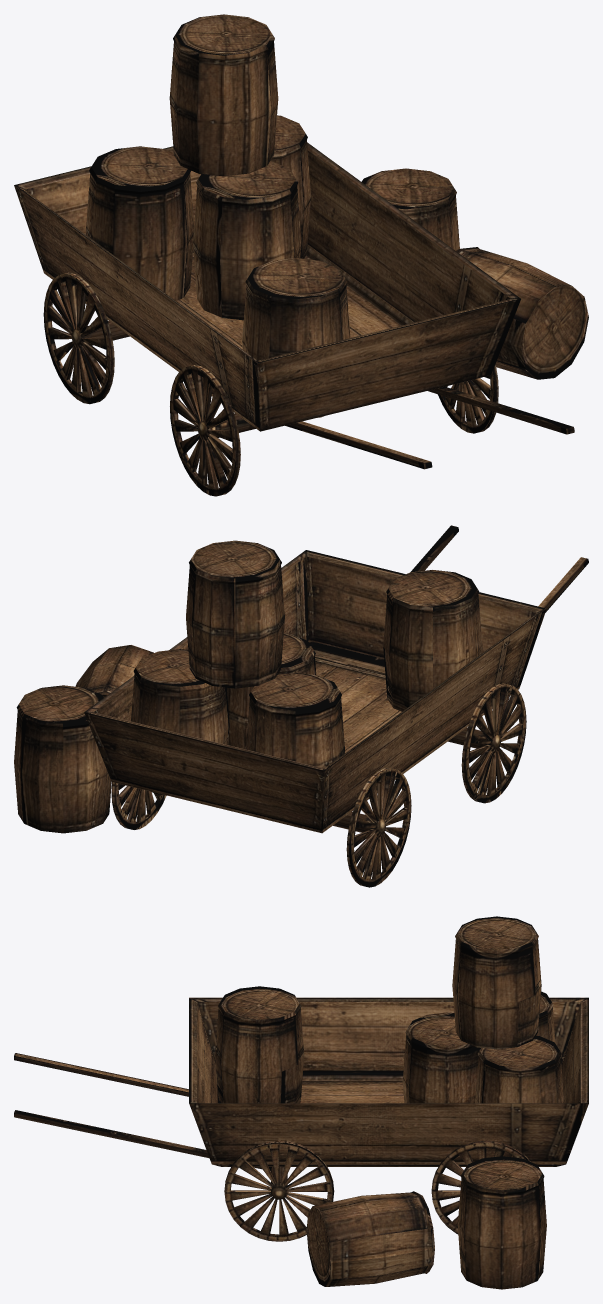
File: cart.fbx
The picture shows the model from 3 angles, top to bottom: view 1: azimuth 30°, elevation 25°; view 2: azimuth 150°, elevation 25°; view 3: azimuth 270°, elevation 25°; orthographic projection. The views are drawn at different scales.
Visible parts, largest first — view 1: Cart; view 2: Cart; view 3: Cart.
Part boxes in pixels (x1,y1,x2,y2): Cart: (14, 14, 588, 496); Cart: (14, 525, 588, 887); Cart: (14, 916, 588, 1289).
Bounding box in the file's own units: 477 × 350 × 690.
Materials: 1 (1 with a texture image).
